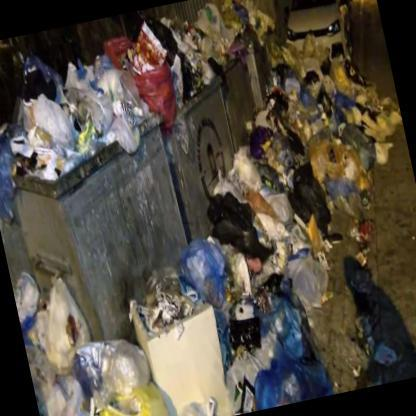Garbage: (0, 33, 152, 173), (206, 260, 334, 414), (127, 288, 236, 415), (112, 6, 214, 112), (18, 44, 108, 136), (76, 330, 162, 415), (168, 0, 258, 72), (31, 277, 96, 375), (116, 28, 182, 124), (306, 115, 372, 207), (210, 206, 280, 284), (12, 82, 76, 158), (278, 240, 338, 316), (176, 238, 238, 311), (332, 108, 395, 175), (293, 168, 338, 240), (208, 182, 268, 231), (248, 195, 300, 250), (0, 138, 30, 230), (80, 388, 179, 415), (141, 286, 200, 328), (8, 264, 40, 340), (108, 107, 144, 166), (190, 0, 230, 44), (233, 150, 268, 192), (216, 171, 250, 208), (270, 38, 301, 78), (288, 64, 322, 100), (202, 34, 230, 68), (332, 53, 360, 87), (249, 0, 274, 38), (382, 107, 404, 138), (296, 34, 318, 58), (276, 101, 296, 126)
